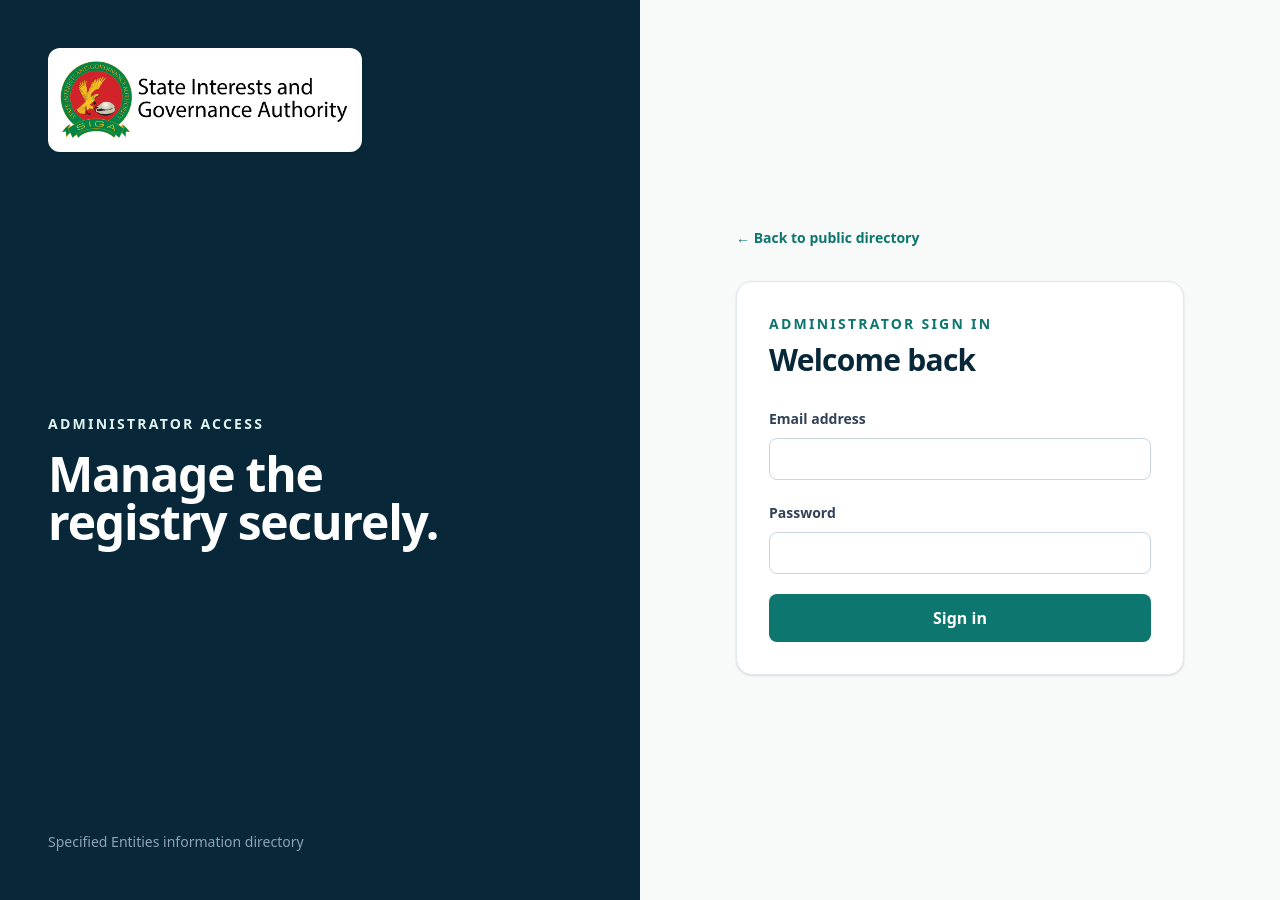
Test case: administrator interface › signs an administrator in with a credentialed request and restores the dashboard
The width and height of the screenshot is (1280, 900).
Type "admin@example.test" into the field labelled "Email address". click: (960, 459)
box: x1=769 y1=438 x2=1151 y2=480
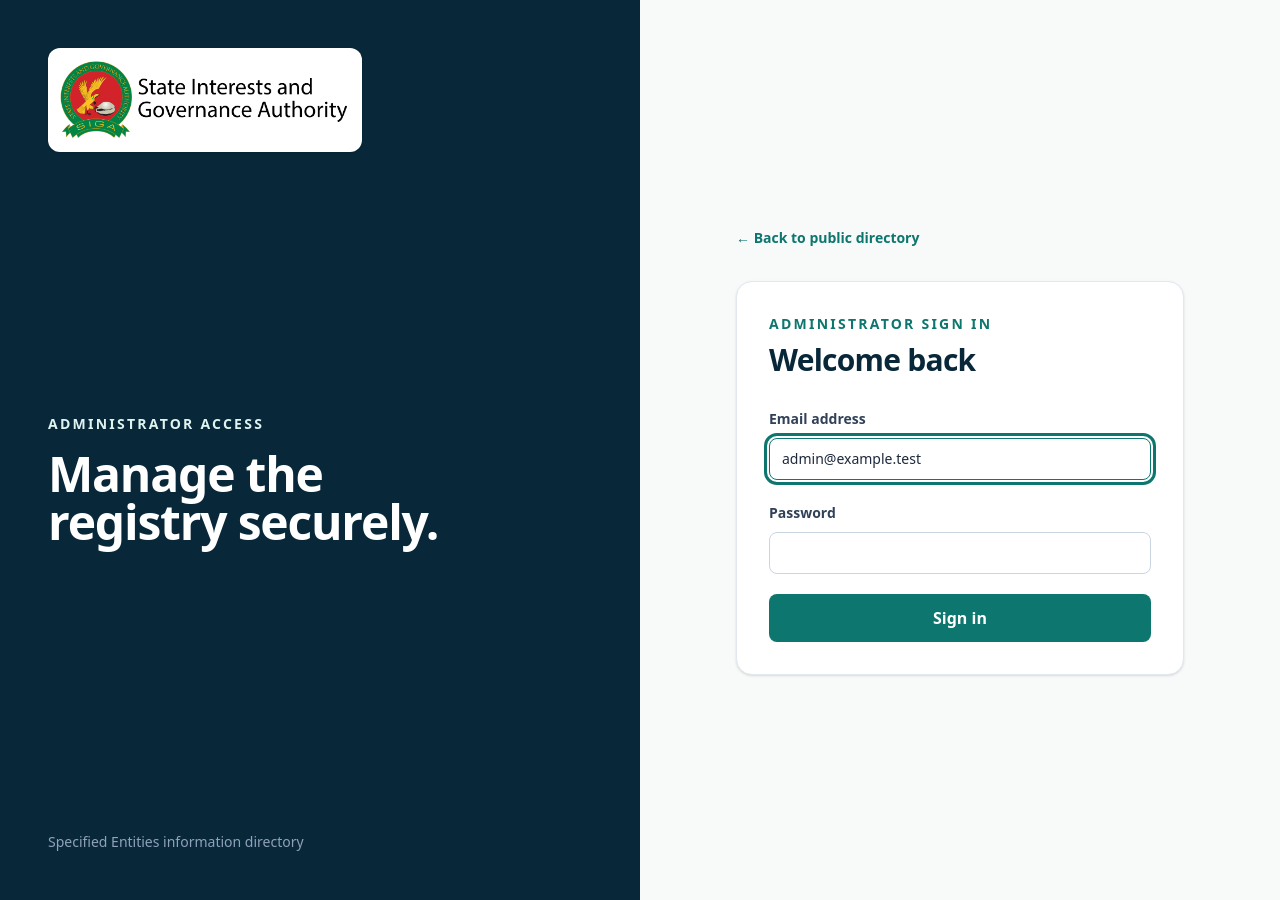
Type "correct-password" into the password field labelled "Password". click: (960, 553)
box: x1=769 y1=532 x2=1151 y2=574
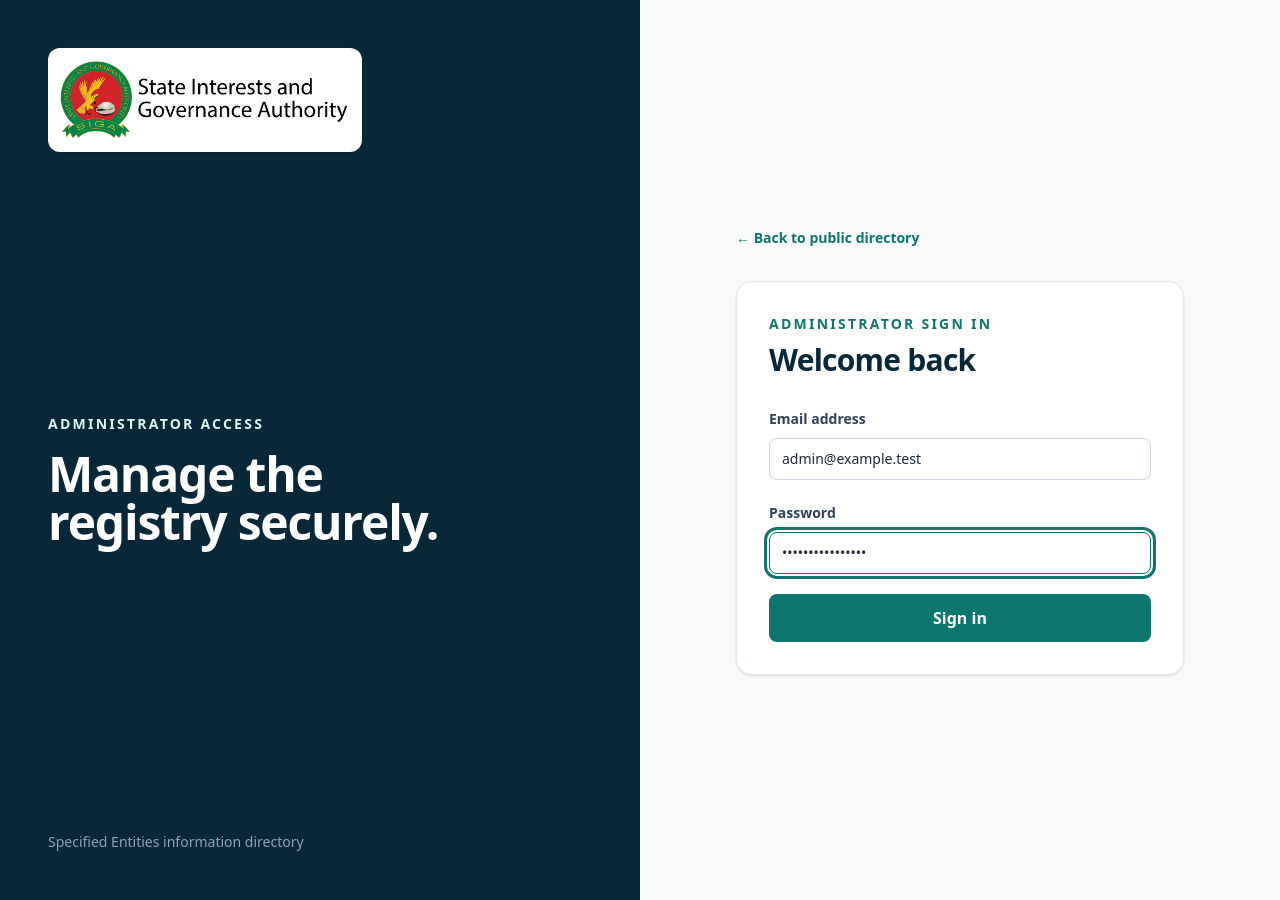
Click the button "Sign in". click: (960, 618)
box: x1=769 y1=594 x2=1151 y2=642
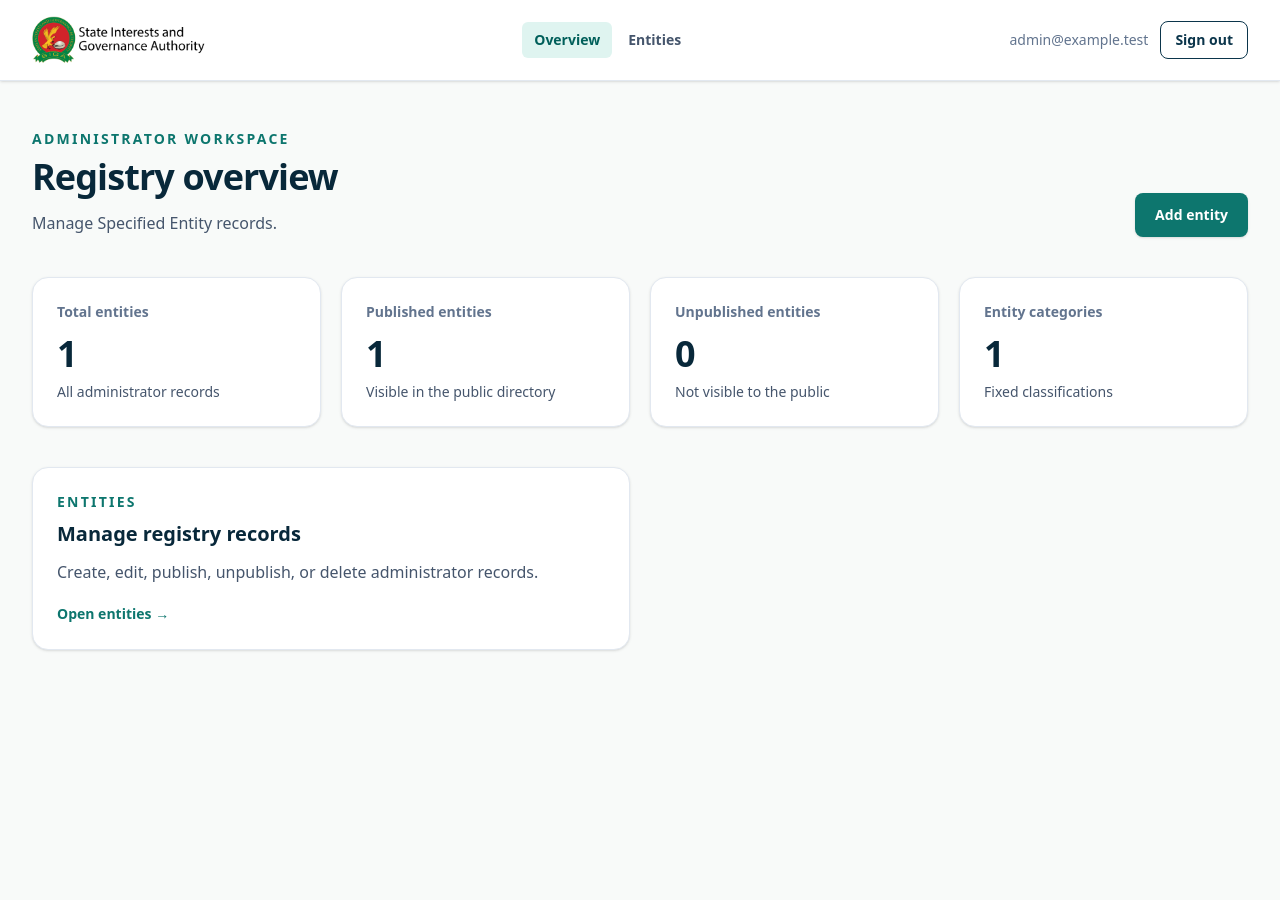
Result: the heading "Registry overview" is shown at x1=32 y1=157 x2=338 y2=197
